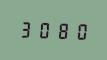eight: (52, 19, 68, 40)
three: (18, 18, 34, 39)
zero: (69, 20, 85, 41), (35, 19, 51, 39)
